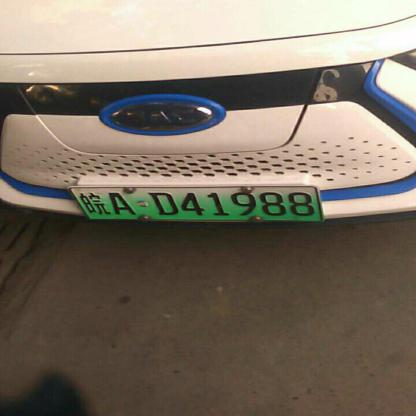lp: (70, 187, 322, 220)
